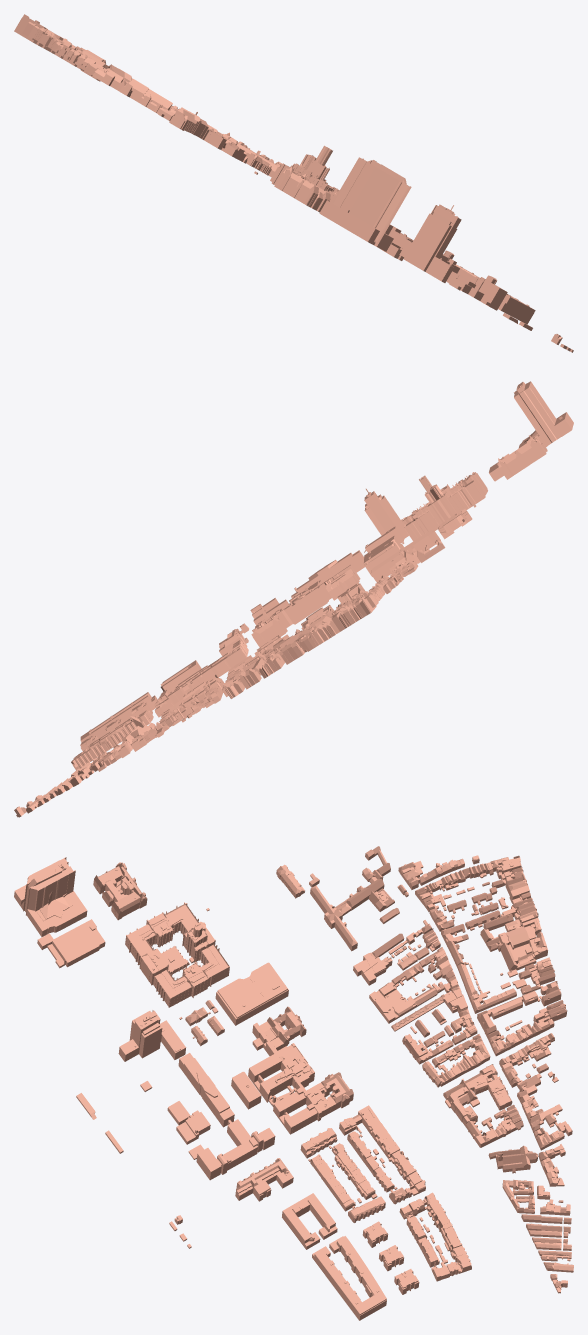
3 renders of one model, top to bottom at view 1: azimuth 30°, elevation 25°; view 2: azimuth 150°, elevation 25°; view 3: azimuth 270°, elevation 25°, orthographic. The views are drawn at different scales.
Size of the model in its own units: 522 by 432 by 681.
